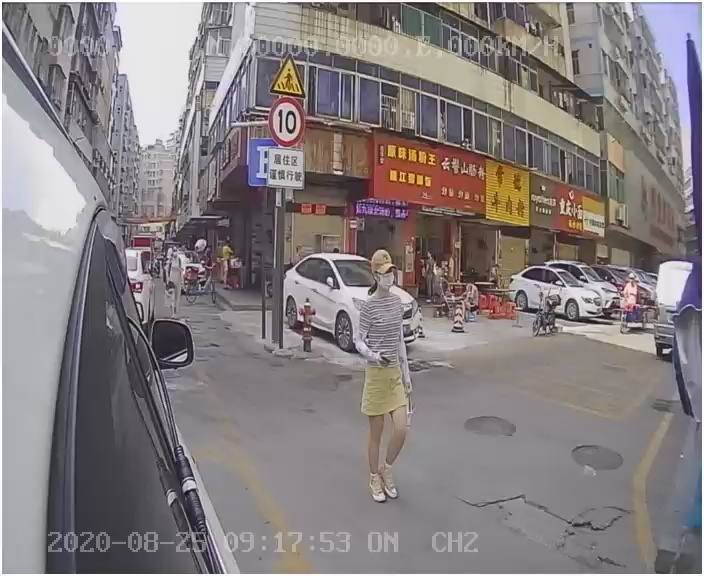person: (341, 250, 427, 504)
